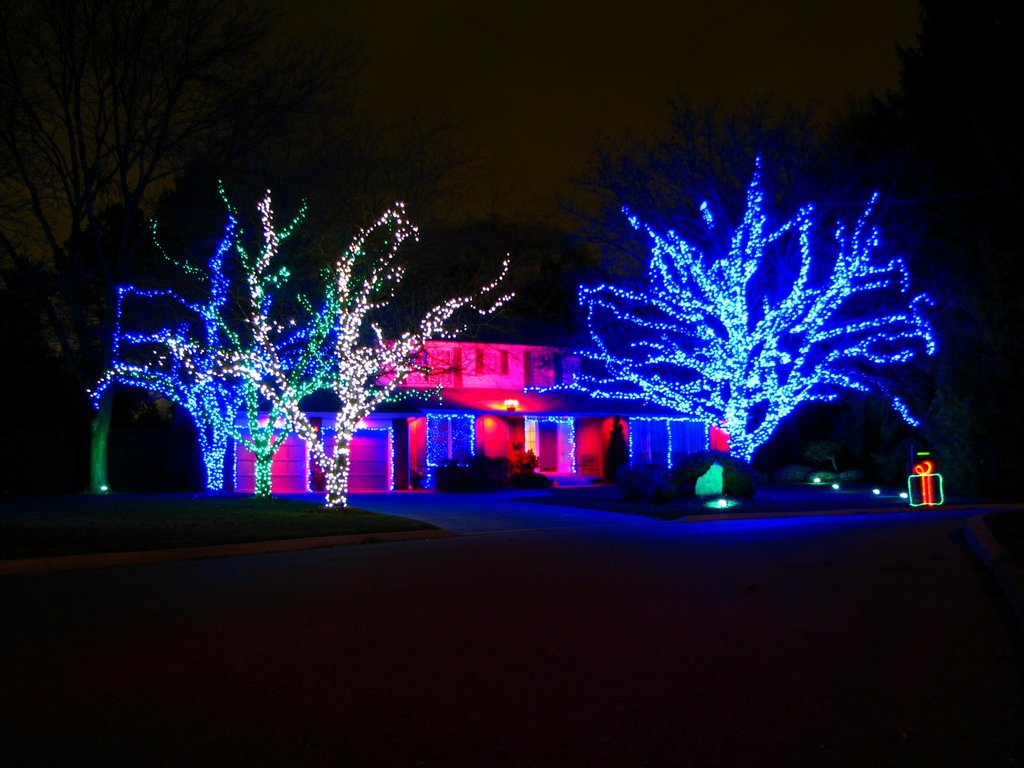Tree: (546, 108, 979, 472), (159, 182, 519, 510), (85, 184, 441, 493)
